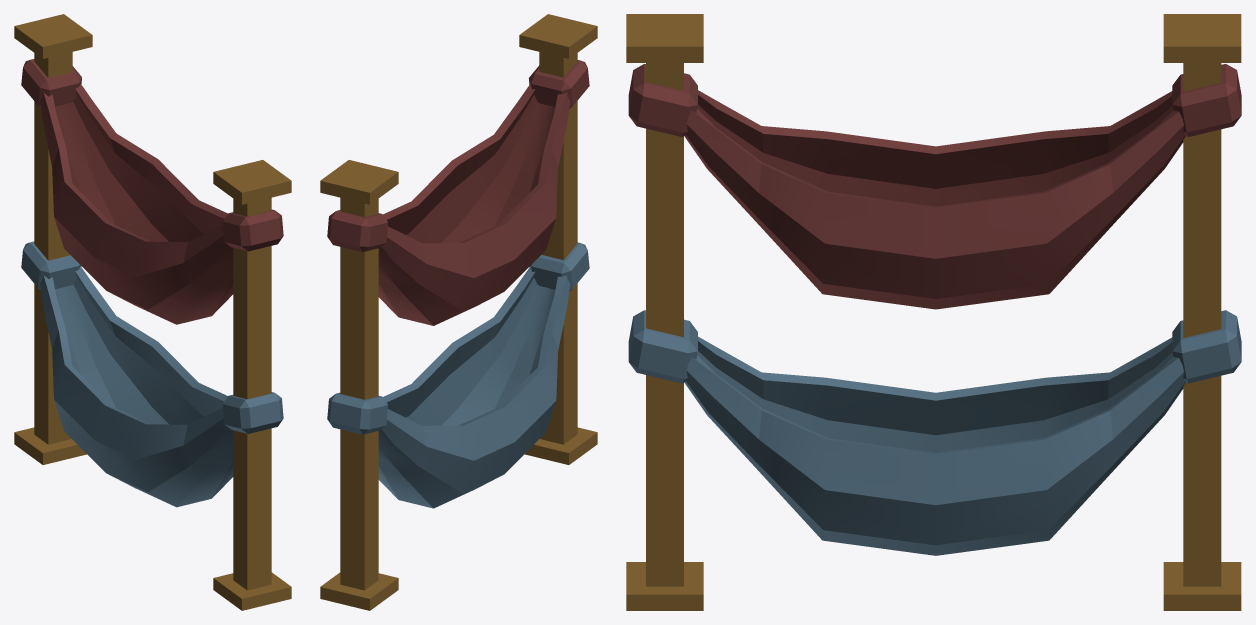
Rendered from HammockDouble.fbx.
3 renders of one model, left to right at view 1: azimuth 30°, elevation 25°; view 2: azimuth 150°, elevation 25°; view 3: azimuth 270°, elevation 25°, orthographic. The views are drawn at different scales.
Visible parts, largest first — view 1: HammockRed, HammockBlue, HammockTPost2, HammockTPost1; view 2: HammockRed, HammockBlue, HammockTPost1, HammockTPost2; view 3: HammockBlue, HammockRed, HammockTPost1, HammockTPost2.
Part boxes in pixels (x1,y1,x2,y2): HammockRed: (21, 59, 283, 324); HammockBlue: (21, 241, 283, 507); HammockTPost2: (213, 160, 291, 610); HammockTPost1: (14, 14, 92, 464); HammockRed: (327, 60, 589, 325); HammockBlue: (327, 242, 589, 508); HammockTPost1: (320, 160, 398, 610); HammockTPost2: (519, 14, 597, 464); HammockBlue: (628, 310, 1241, 555); HammockRed: (628, 64, 1241, 309); HammockTPost1: (1163, 14, 1241, 610); HammockTPost2: (626, 14, 703, 610).
Bounding box in the file's own units: 4.67 × 16.37 × 16.18.
